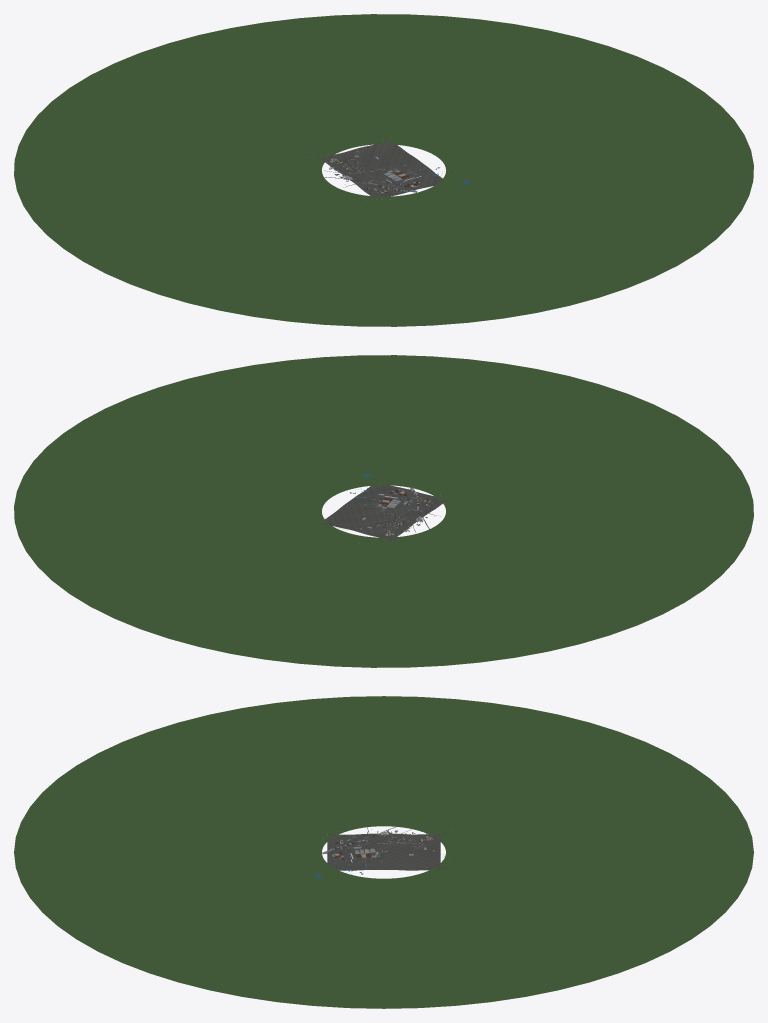
File: madring.glb
3 renders of one model, top to bottom at view 1: azimuth 30°, elevation 25°; view 2: azimuth 150°, elevation 25°; view 3: azimuth 270°, elevation 25°, orthographic.
Parts seen in each view (by area): view 1: RL_Circuit; view 2: RL_Circuit; view 3: RL_Circuit.
Part boxes in pixels (x1=…): RL_Circuit: x1=14, y1=14, x2=753, y2=326; RL_Circuit: x1=14, y1=355, x2=753, y2=667; RL_Circuit: x1=14, y1=696, x2=753, y2=1008.
Bounding box in the file's own units: 18000 × 73.91 × 18000.
Materials: 92 (60 with a texture image).
